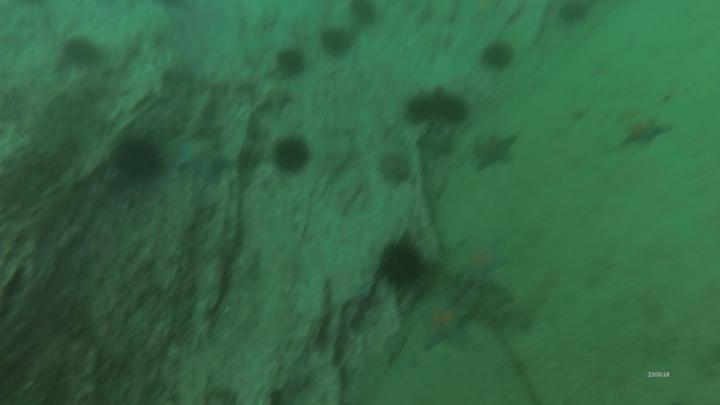echinus: (378, 242, 422, 284), (114, 142, 162, 176), (274, 141, 303, 169), (67, 40, 98, 66), (324, 30, 350, 56), (439, 97, 466, 121), (486, 43, 514, 66), (407, 97, 432, 120), (277, 50, 302, 73), (355, 1, 377, 24)
starfish: (419, 300, 467, 352), (463, 237, 511, 281), (182, 143, 236, 180), (473, 134, 517, 168), (624, 117, 672, 147), (417, 129, 455, 160)
